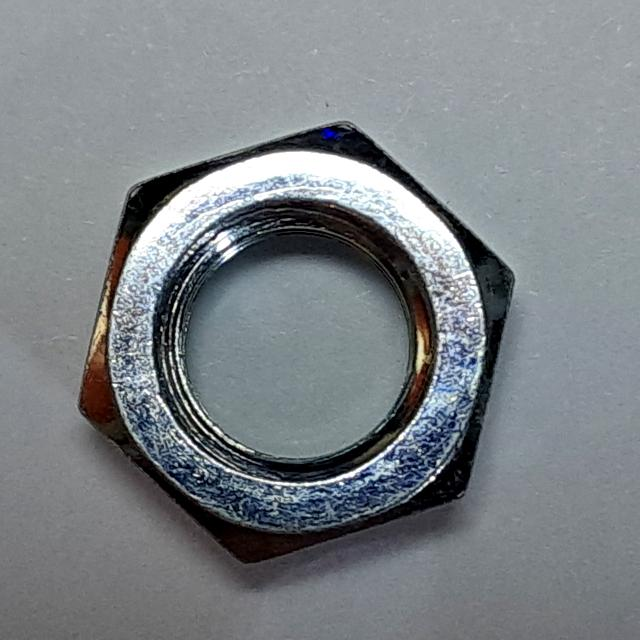Excellent: (60, 102, 538, 584)
